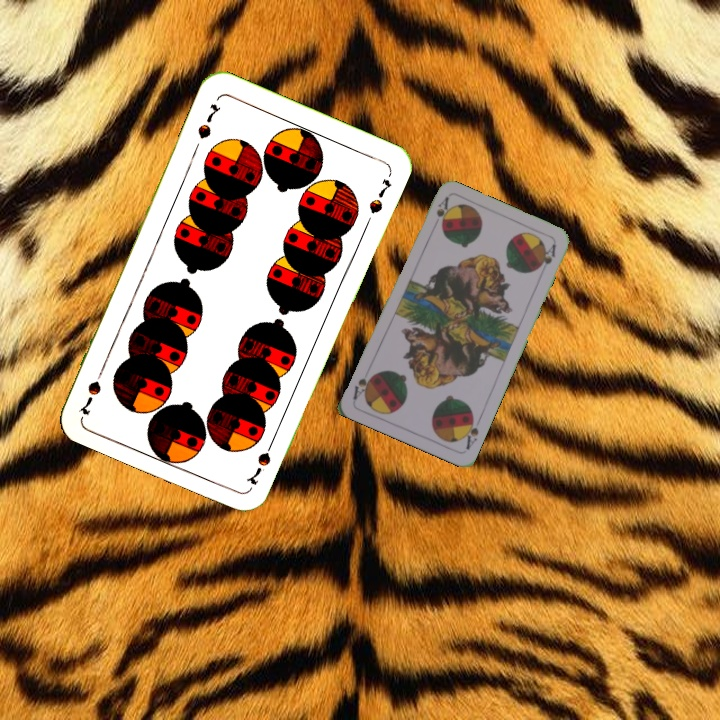S7: (242, 434, 278, 488), (193, 99, 224, 142)
SA: (458, 411, 484, 452), (429, 193, 451, 232)
